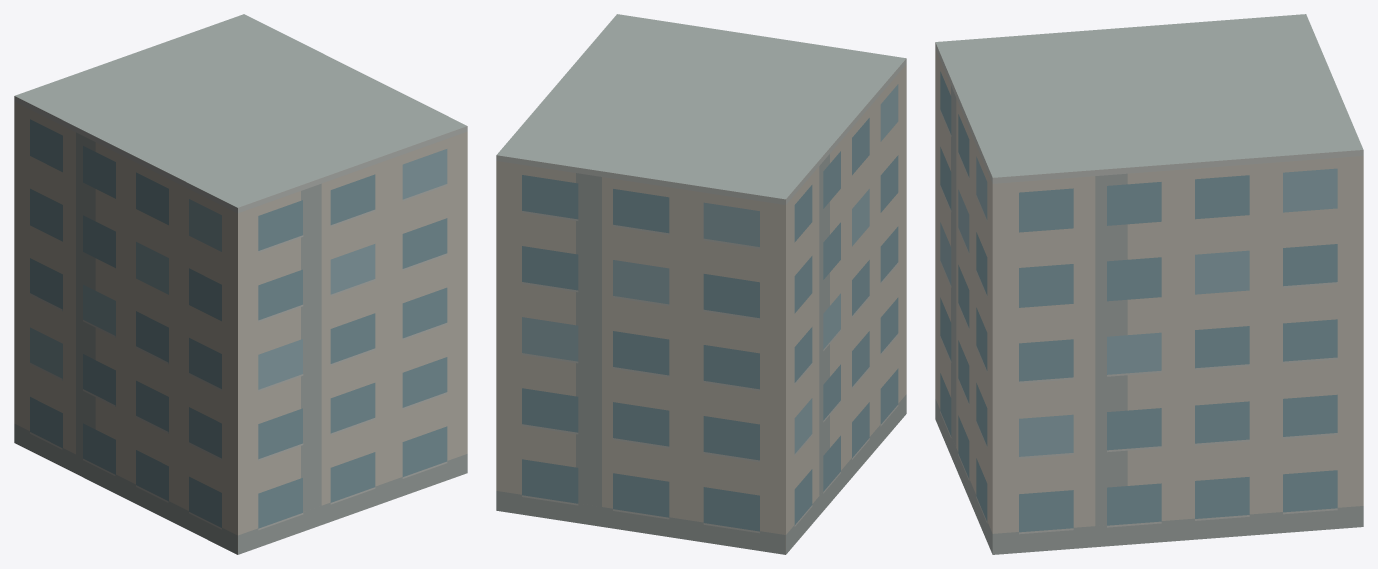
The model's file is residential-ef522670-cc9f-4a46-b2ea-ea7379cc6b64.glb.
3 renders of one model, left to right at view 1: azimuth 30°, elevation 25°; view 2: azimuth 150°, elevation 25°; view 3: azimuth 270°, elevation 25°, orthographic. The views are drawn at different scales.
Visible parts, largest first — view 1: residential-ef522670-cc9f-4a46-b2ea-ea7379cc6b64.tmp; view 2: residential-ef522670-cc9f-4a46-b2ea-ea7379cc6b64.tmp; view 3: residential-ef522670-cc9f-4a46-b2ea-ea7379cc6b64.tmp.
Part boxes in pixels (left/top/right/bottom): residential-ef522670-cc9f-4a46-b2ea-ea7379cc6b64.tmp: left=14, top=14, right=467, bottom=554; residential-ef522670-cc9f-4a46-b2ea-ea7379cc6b64.tmp: left=496, top=14, right=906, bottom=554; residential-ef522670-cc9f-4a46-b2ea-ea7379cc6b64.tmp: left=935, top=14, right=1363, bottom=554.
Size of the model in its own units: 14.22 by 15.25 by 15.71.
